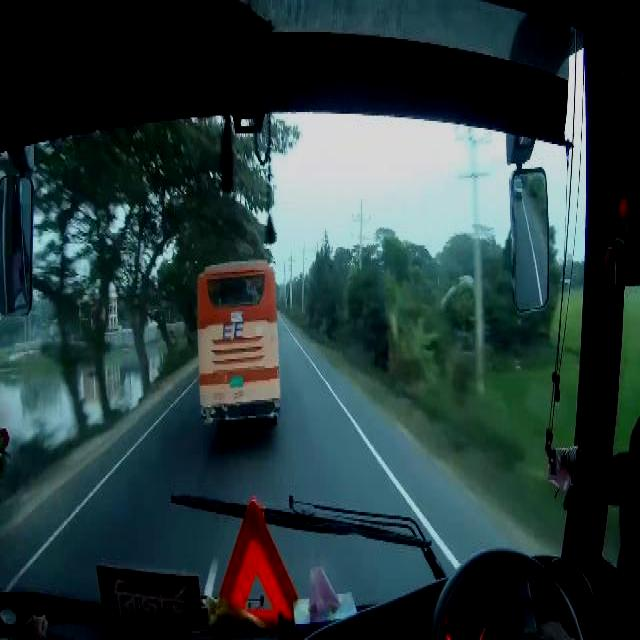BUS: (195, 260, 281, 436)
